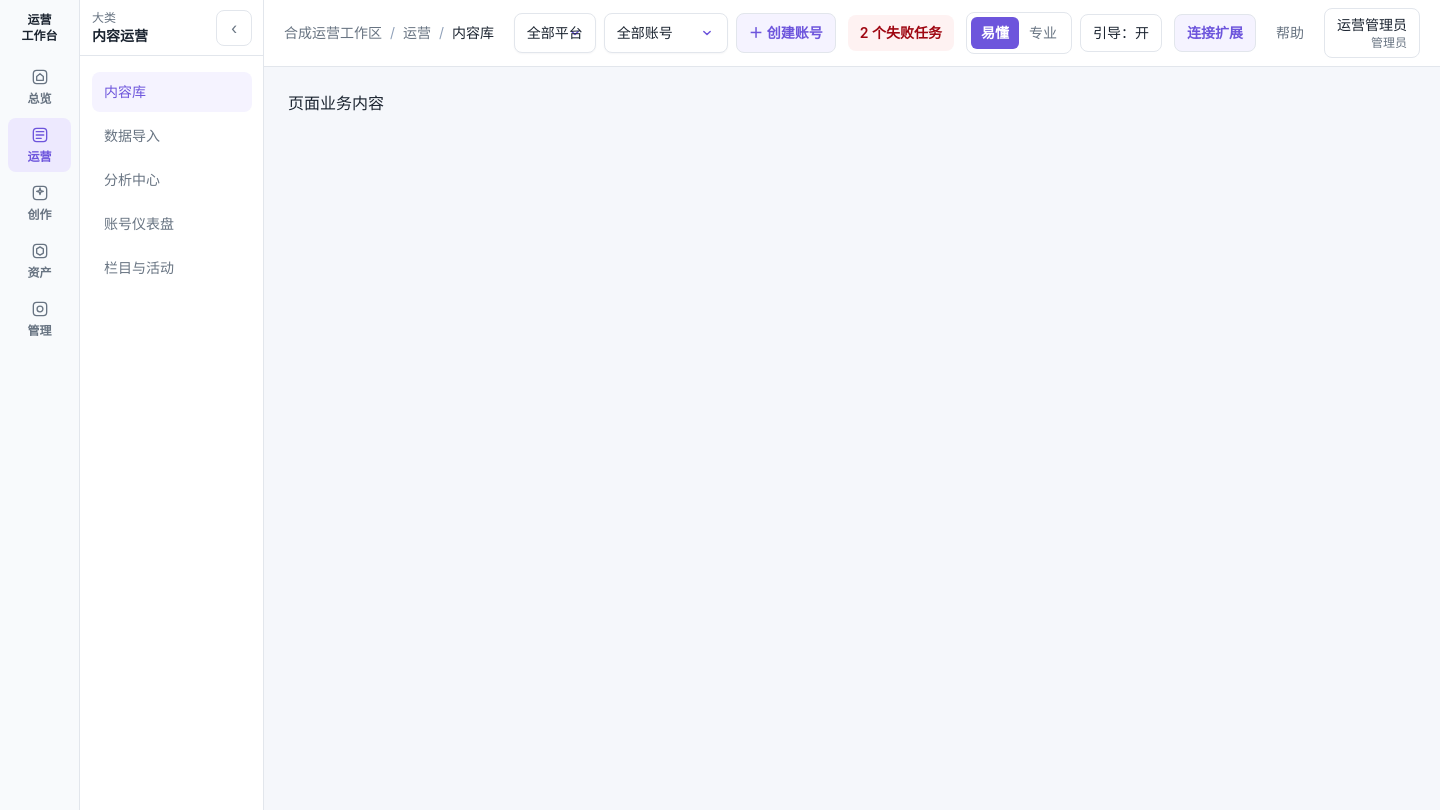
it: workspace shell behavior › persists the desktop width preference under the current member only
Click the button named "收起功能列表" at (234, 28), box [216,10,252,46]
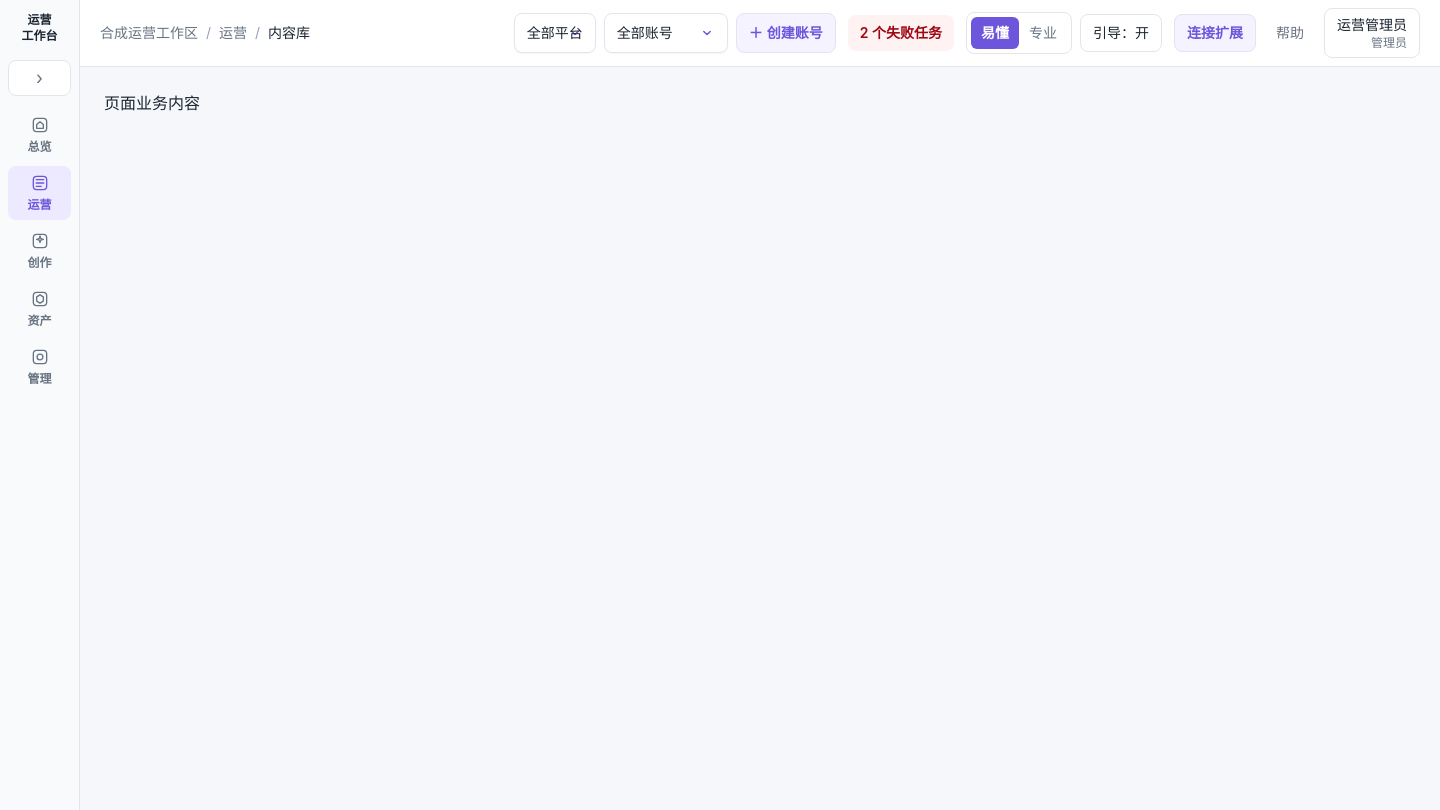
Expected: the navigation bar named "功能大类" is shown, [0,0,80,809]
Result: the navigation bar "内容运营功能" is gone
